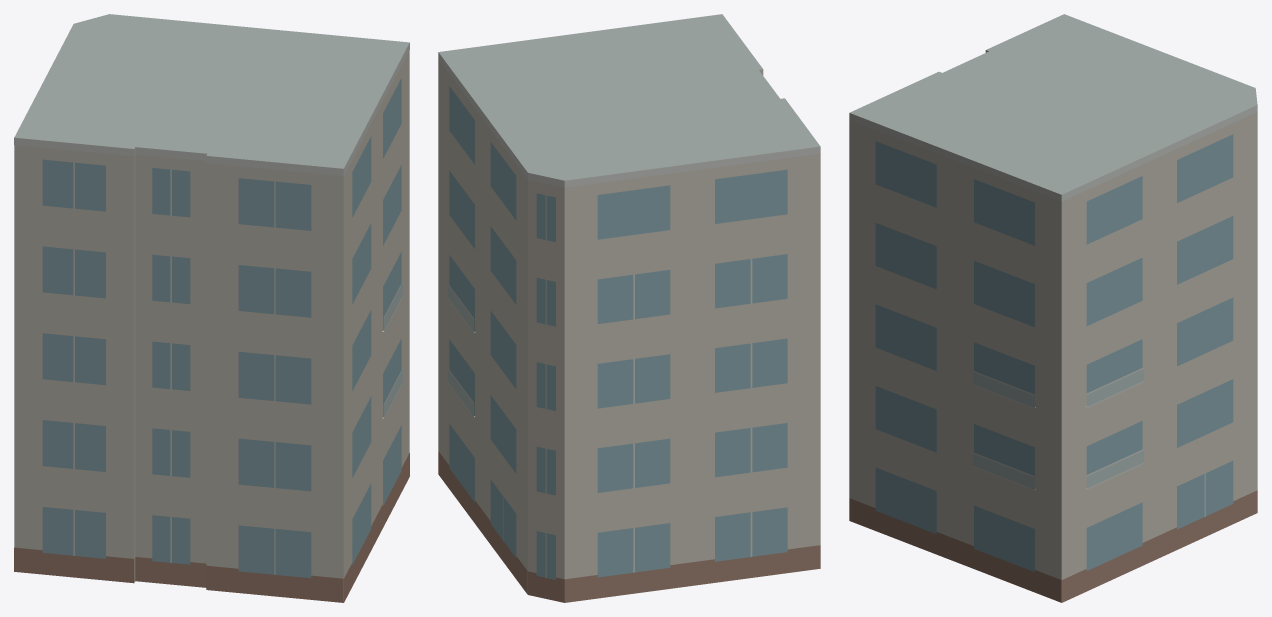
Rendered from survey-upis-33012263.glb.
The picture shows the model from 3 angles, left to right: view 1: azimuth 30°, elevation 25°; view 2: azimuth 150°, elevation 25°; view 3: azimuth 270°, elevation 25°; orthographic projection. The views are drawn at different scales.
Parts seen in each view (by area): view 1: survey-upis-33012263.tmp; view 2: survey-upis-33012263.tmp; view 3: survey-upis-33012263.tmp.
Part boxes in pixels (box(x1,y1,x2,y2)): survey-upis-33012263.tmp: box(14, 14, 409, 602); survey-upis-33012263.tmp: box(438, 14, 820, 602); survey-upis-33012263.tmp: box(849, 14, 1257, 602).
Bounding box in the file's own units: 13.94 × 14.65 × 13.29.
